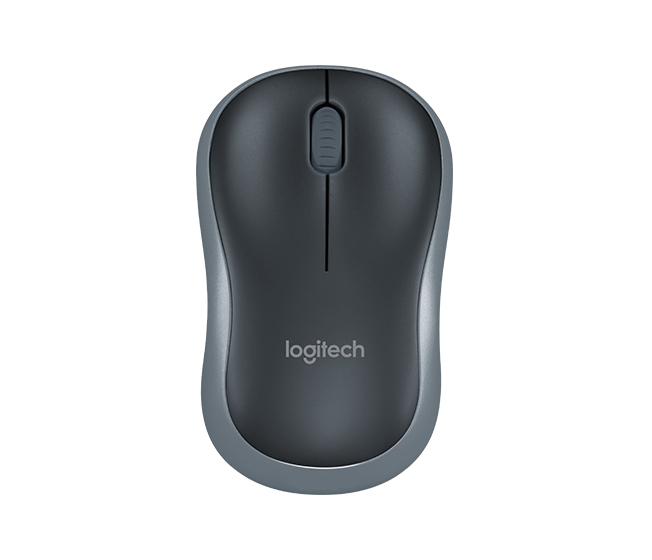logitech-mouse-m185: (190, 68, 459, 498)
